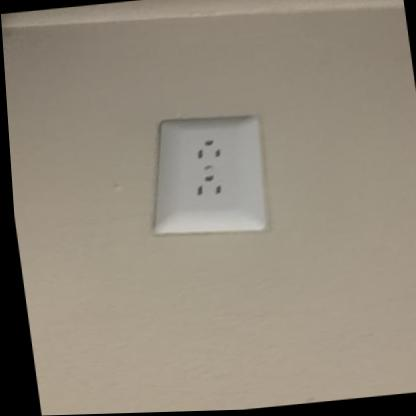OUTLET: (138, 112, 276, 240)
